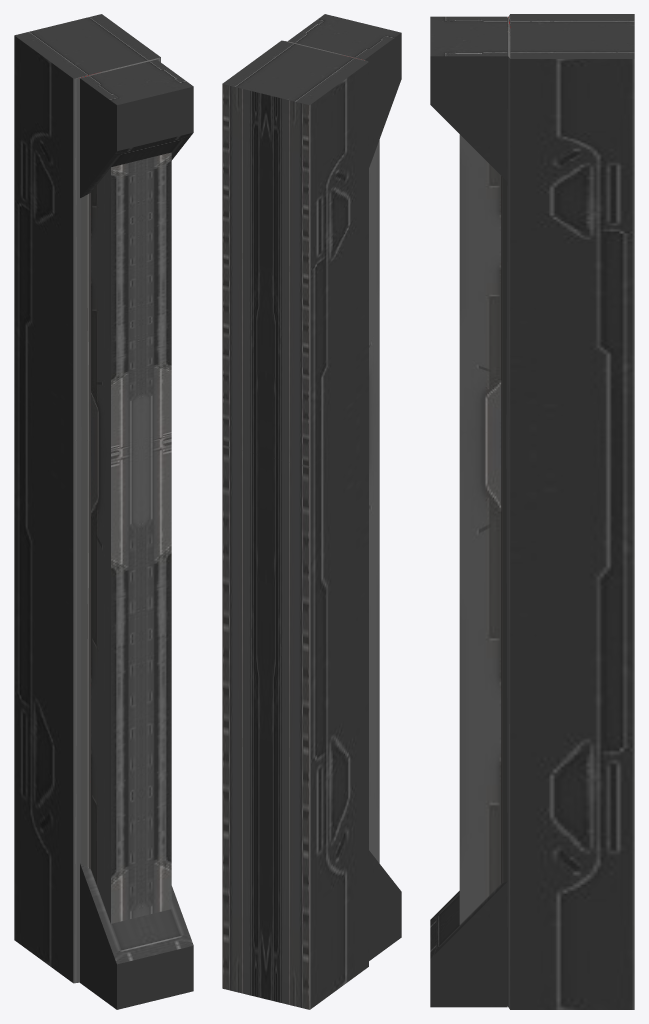
File: column.glb
3 views of the same model, side by side, from view 1: azimuth 30°, elevation 25°; view 2: azimuth 150°, elevation 25°; view 3: azimuth 270°, elevation 25° (orthographic). The views are drawn at different scales.
Visible parts, largest first — view 1: Column_Simple; view 2: Column_Simple; view 3: Column_Simple.
Boxes of the visible parts, box(x1,y1,x2,y2) form: Column_Simple: box(14, 14, 193, 1009); Column_Simple: box(222, 14, 401, 1009); Column_Simple: box(430, 14, 634, 1009).
Size of the model in its own units: 0.5068 by 5 by 0.9749.
2 materials, 2 textured.
